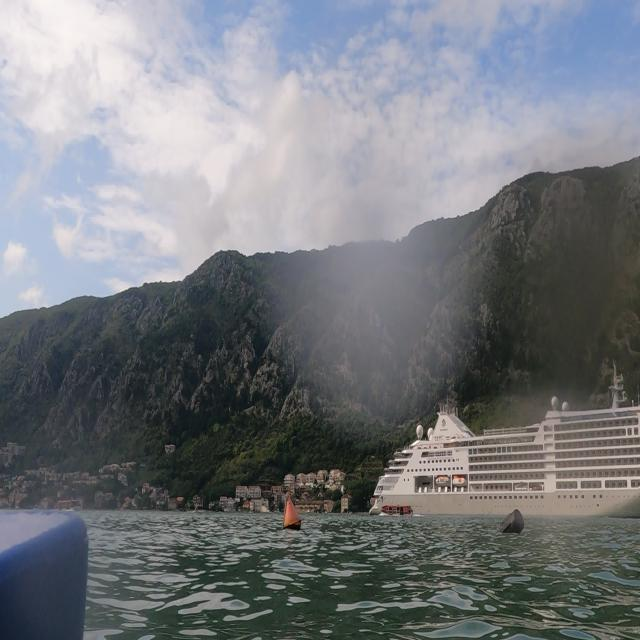boat: (367, 359, 638, 525)
buoy: (274, 489, 306, 538), (494, 502, 526, 541)
